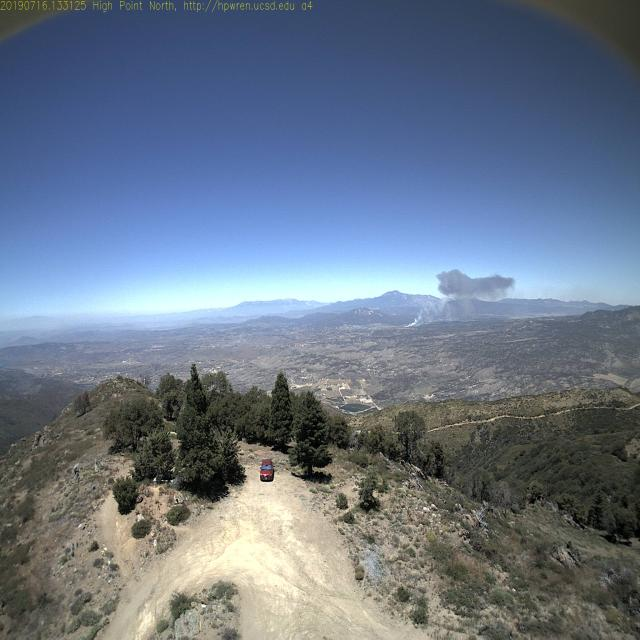smoke: (393, 296, 436, 339)
